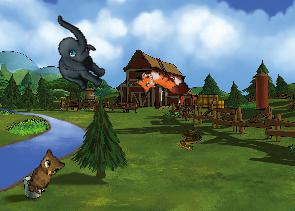elephant: (33, 14, 121, 96)
fox: (129, 58, 191, 114)
owl: (26, 147, 68, 200)
